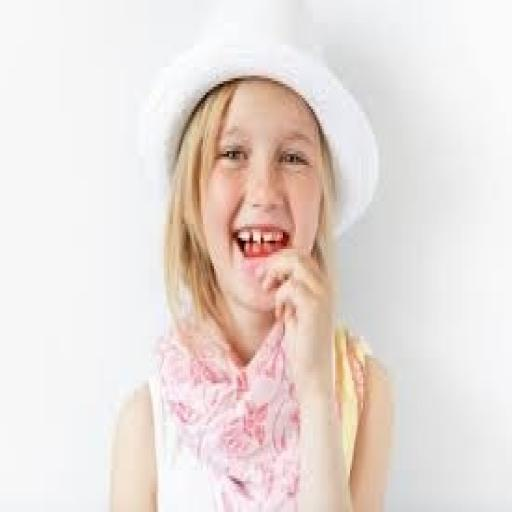laughing: (104, 31, 397, 509)
